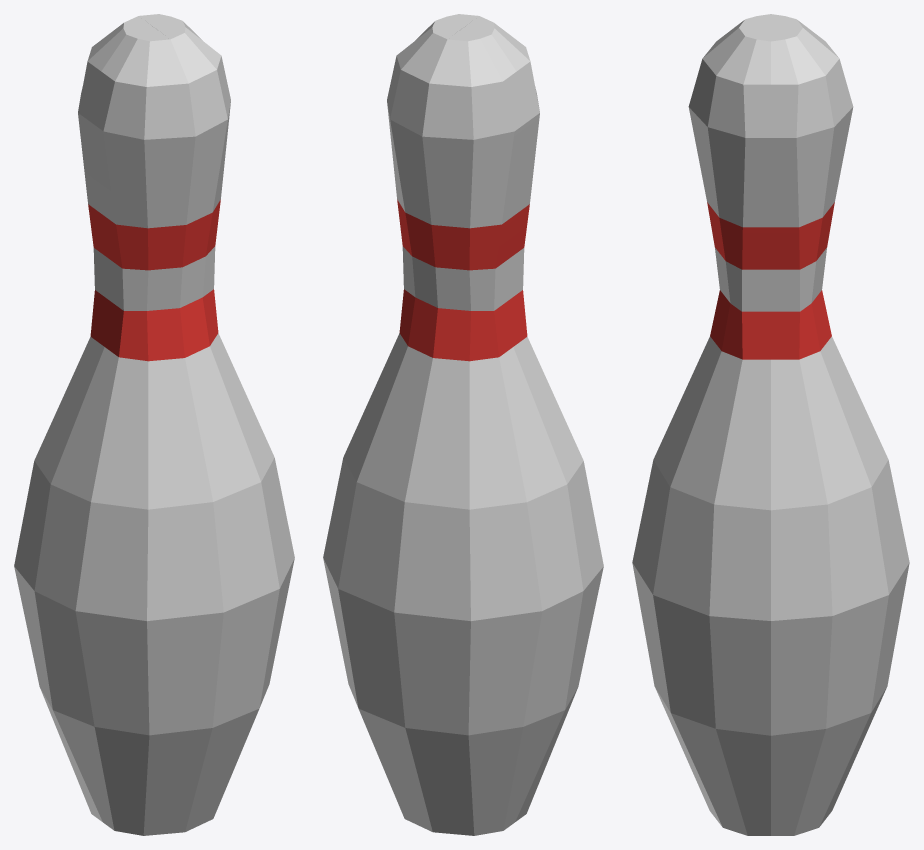
The model's file is pin.fbx.
3 renders of one model, left to right at view 1: azimuth 30°, elevation 25°; view 2: azimuth 150°, elevation 25°; view 3: azimuth 270°, elevation 25°, orthographic.
Visible parts, largest first — view 1: 円柱; view 2: 円柱; view 3: 円柱.
Boxes of the visible parts, x1,y1,x2,y2 form: 円柱: (14, 14, 294, 835); 円柱: (323, 14, 603, 835); 円柱: (632, 14, 909, 835).
Bounding box in the file's own units: 12.1 × 12.1 × 37.69.
